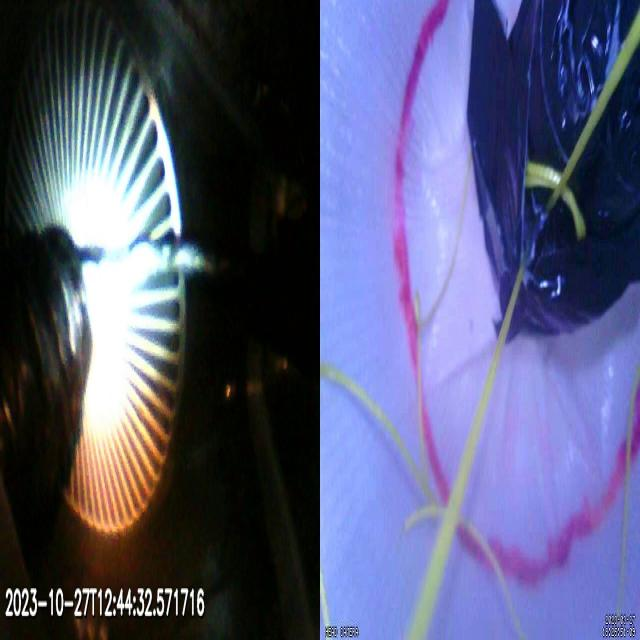red-circle: (394, 2, 640, 586)
